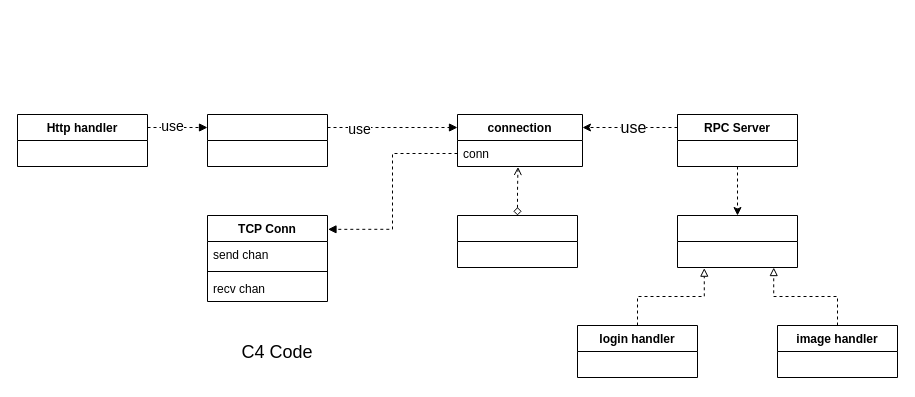
Some shapes in this 915 by 397 pixel diagram are drawn without their labels. The centre of each missing label's shape, as x and y in pixels:
"handler" belongs at point 737,241.
"pool" belongs at point 517,241.
"RPC Client" belongs at point 267,140.
